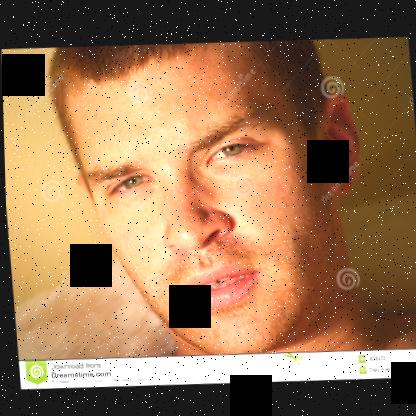Male: (54, 31, 375, 360)
